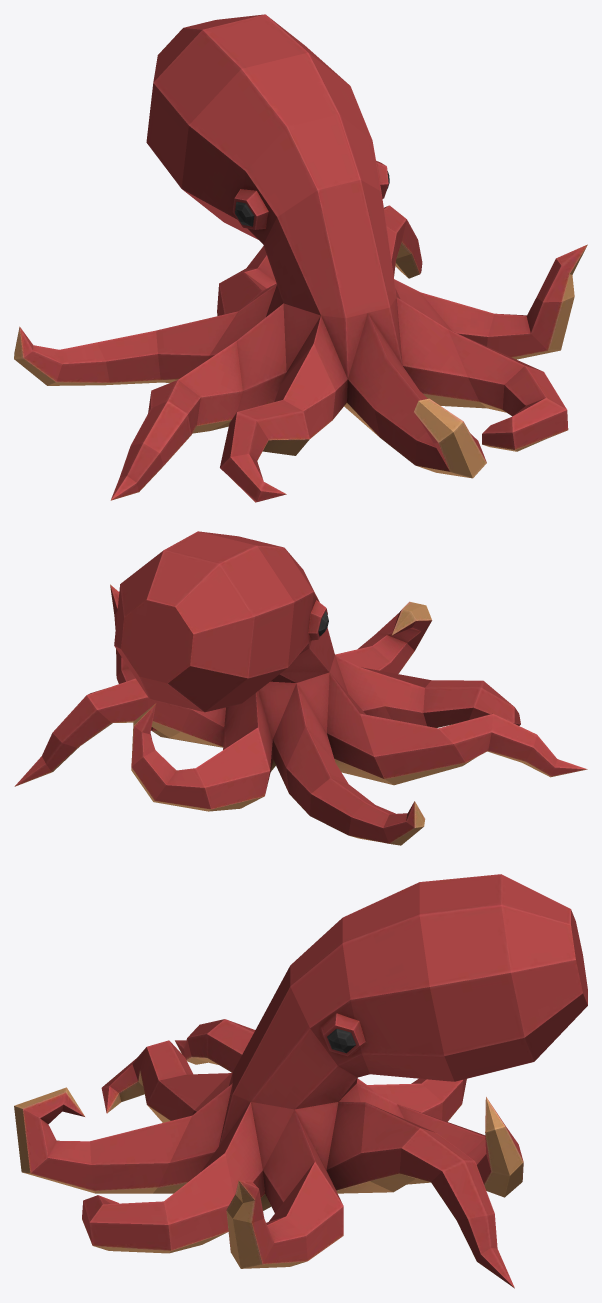
The model's file is octopus.glb.
3 views of the same model, one above another, from view 1: azimuth 30°, elevation 25°; view 2: azimuth 150°, elevation 25°; view 3: azimuth 270°, elevation 25° (orthographic). The views are drawn at different scales.
Parts seen in each view (by area): view 1: Octopus_mesh; view 2: Octopus_mesh; view 3: Octopus_mesh.
Boxes of the visible parts, <box> form: Octopus_mesh: <box>14,14,587,502</box>; Octopus_mesh: <box>14,531,587,845</box>; Octopus_mesh: <box>14,874,587,1288</box>.
Bounding box in the file's own units: 0.5 × 0.2841 × 0.4859.
Materials: 1 (1 with a texture image).
